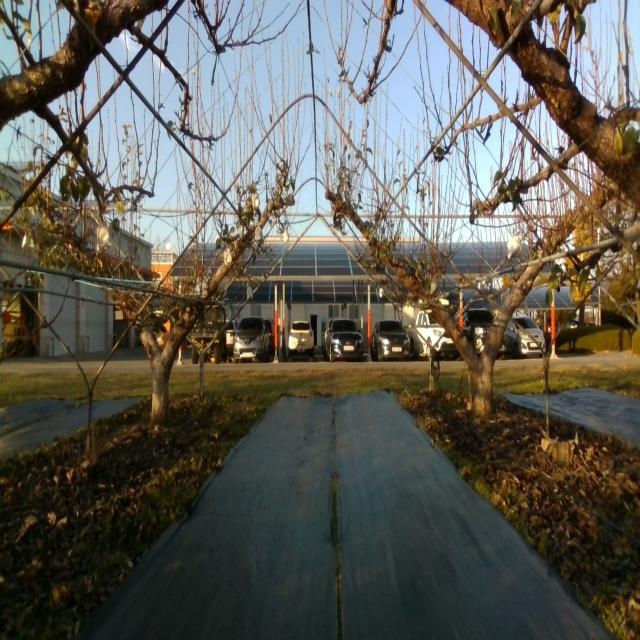pearbags: (506, 234, 525, 261), (96, 220, 111, 254)
